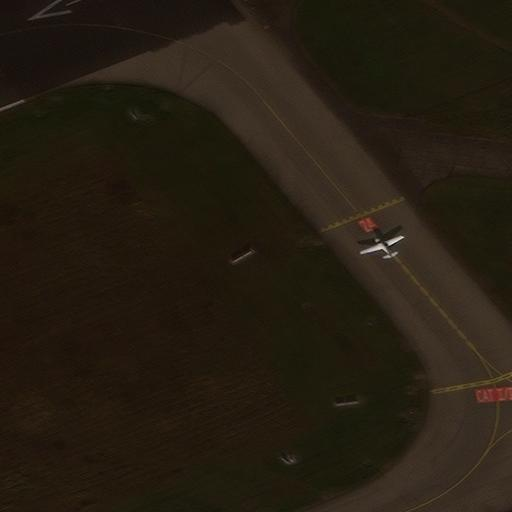Small Civil Transport: (358, 235, 401, 257)
